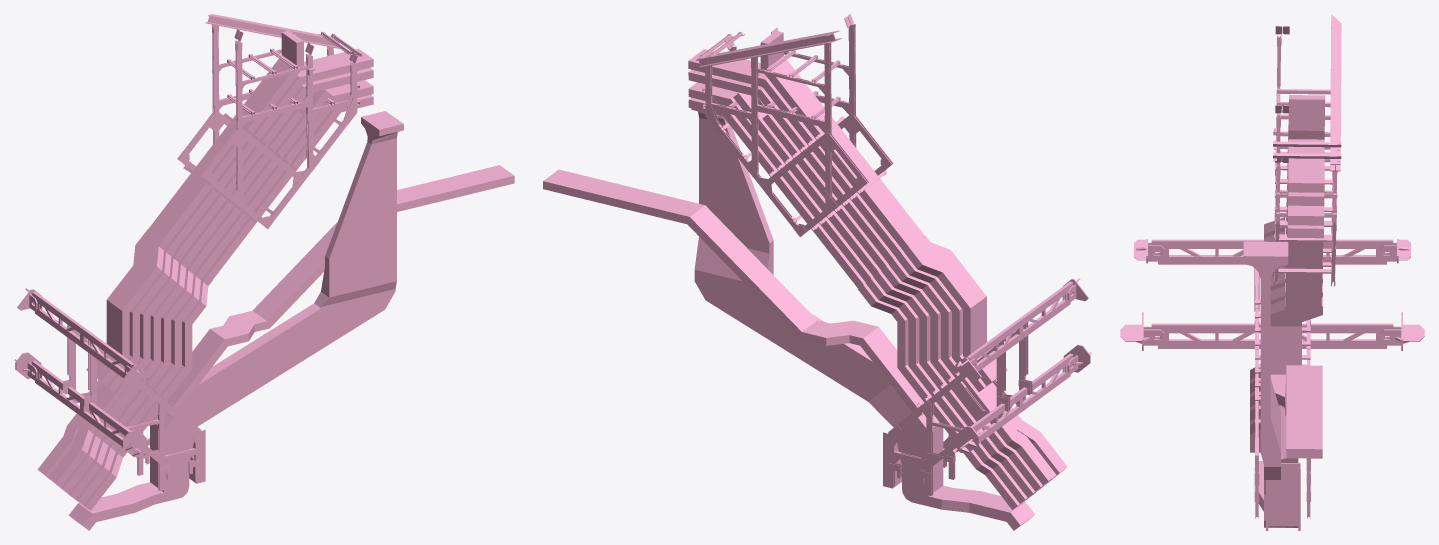
File: Serv-Z0-Sec3.glb
The picture shows the model from 3 angles, left to right: view 1: azimuth 30°, elevation 25°; view 2: azimuth 150°, elevation 25°; view 3: azimuth 270°, elevation 25°; orthographic projection. The views are drawn at different scales.
Parts seen in each view (by area): view 1: Serv-Z0-Sec3; view 2: Serv-Z0-Sec3; view 3: Serv-Z0-Sec3.
Part boxes in pixels (x1,y1,x2,y2): Serv-Z0-Sec3: (14,14,514,530); Serv-Z0-Sec3: (543,14,1091,530); Serv-Z0-Sec3: (1120,14,1424,530).
Bounding box in the file's own units: 7.7 × 7.09 × 3.52.
